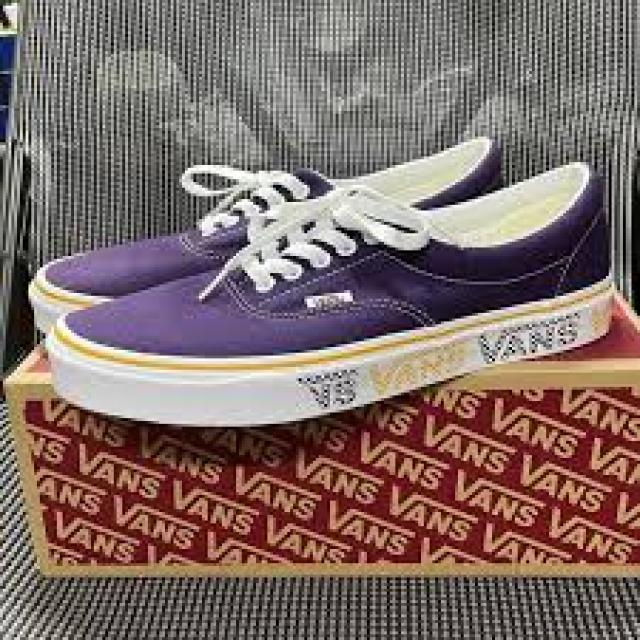shoe: (22, 135, 618, 429)
